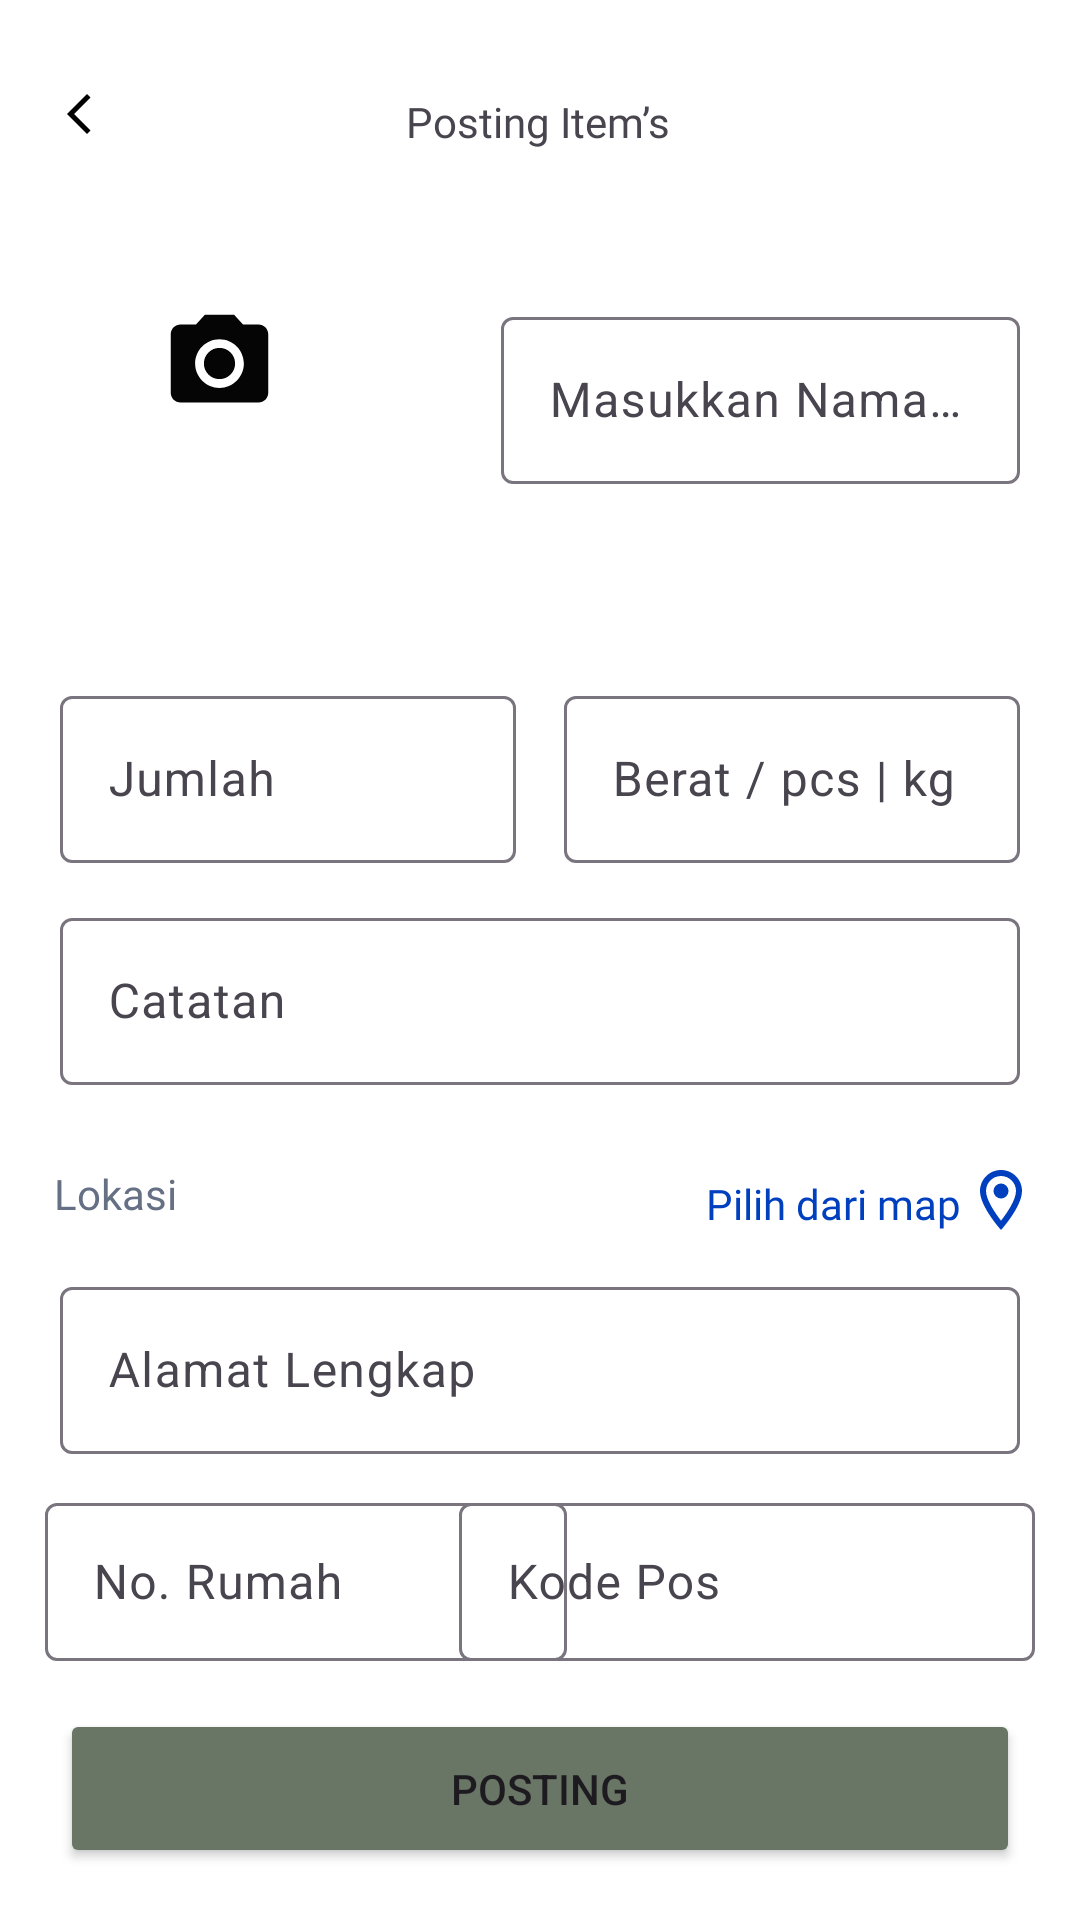

Where to tap for icons on this 1080x1920 app screen, as (x,y):
back: (79,114)
camera: (219,358)
location: (1001,1200)
